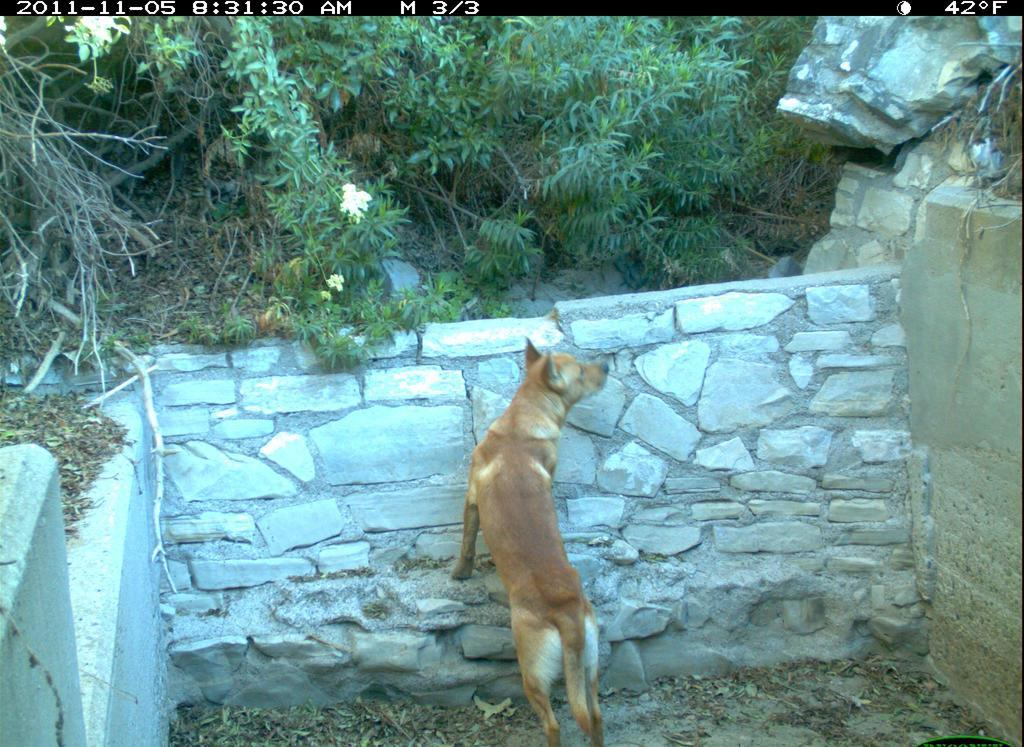dog: (451, 321, 638, 747)
